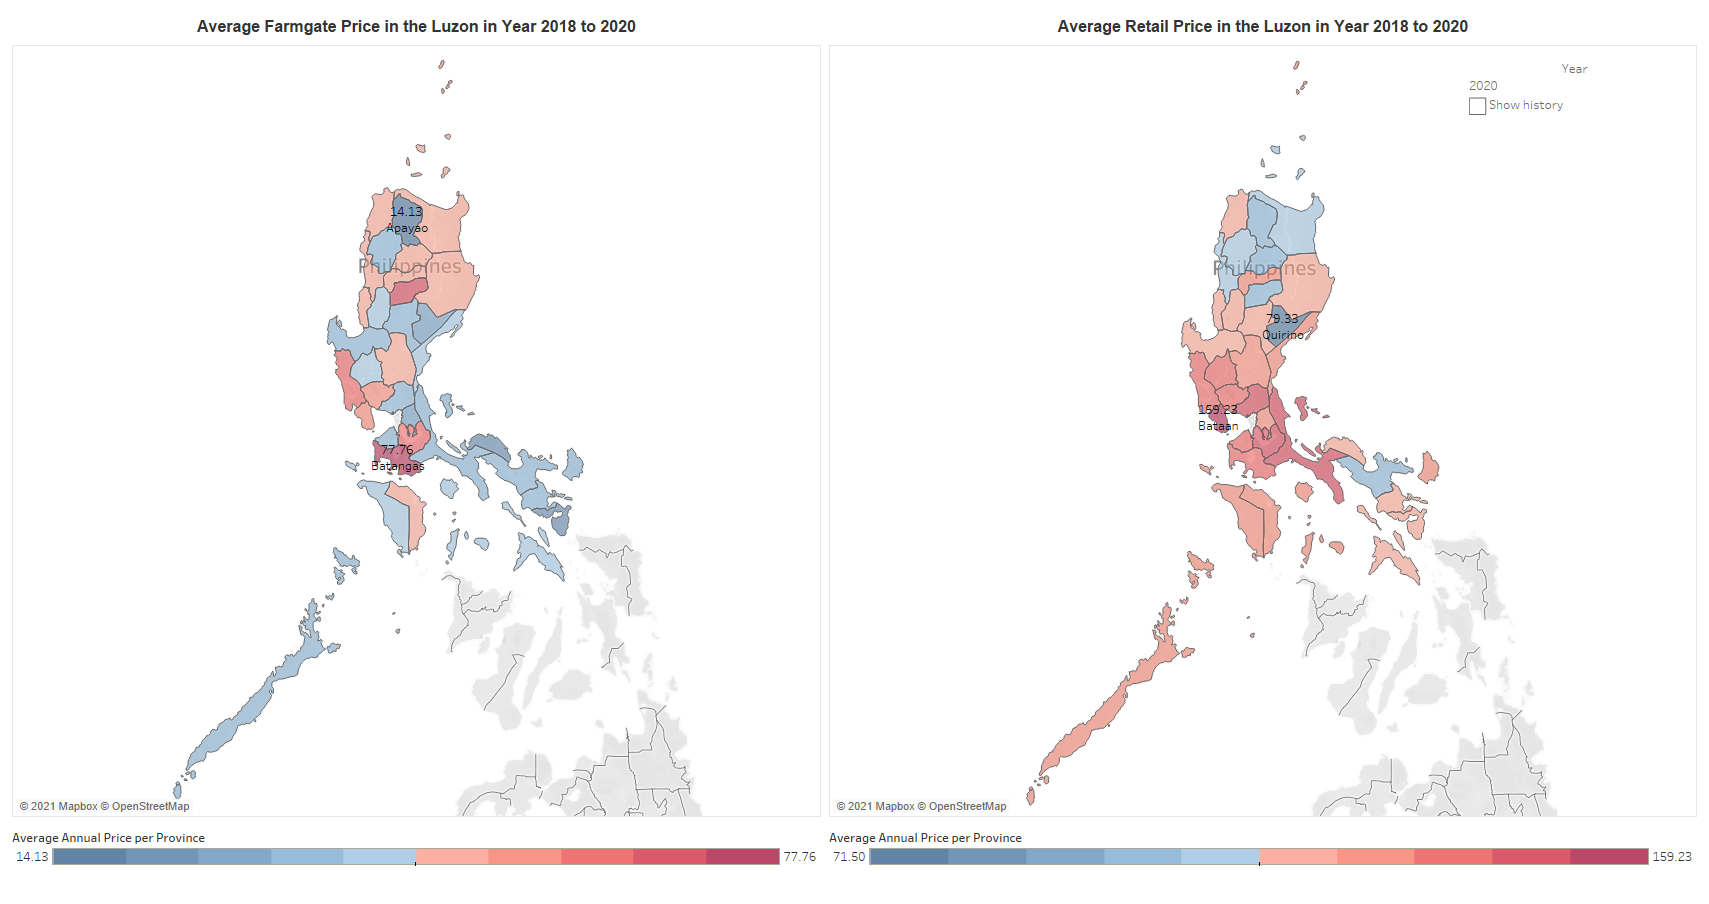

This screenshot's page, from the dashboard's own definition file:
{"tool":"tableau","page":{"name":"Objective 3","canvas":[1000,1000],"units":"permille","ordinal":3},"visuals":[{"type":"worksheet","title":"Farmgate Province","mark":"Multipolygon","box":[4.7,8.8,478.1,899.3]},{"type":"worksheet","title":"Retail Province","mark":"Multipolygon","box":[482.8,8.8,512.5,899.3]},{"type":"currpage","title":"Farmgate Province","box":[859.6,65.3,123.5,88.5]},{"type":"legend","title":"Farmgate Province","param":"[federated.11yr58t03ajr2j1fum0s00oflgma].[avg:Annual Price:qk]","box":[4.7,908.2,478.1,83]},{"type":"legend","title":"Retail Province","param":"[federated.11yr58t03ajr2j1fum0s00oflgma].[avg:Annual Price:qk]","box":[482.8,908.2,512.5,83]}]}

Visuals, with their boxes on the dashboard's canvas, which has no fixed pixel size, in thousandths of its width and height (x1, y1, x2, y2). These are canvas units, not pixel positions in the 1709x904 screenshot, which may show the page scaled, cropped or inside an application window:
"Farmgate Province" worksheet (Multipolygon marks): select_region(5, 9, 483, 908)
"Retail Province" worksheet (Multipolygon marks): select_region(483, 9, 995, 908)
"Farmgate Province" currpage: select_region(860, 65, 983, 154)
"Farmgate Province" legend: select_region(5, 908, 483, 991)
"Retail Province" legend: select_region(483, 908, 995, 991)
